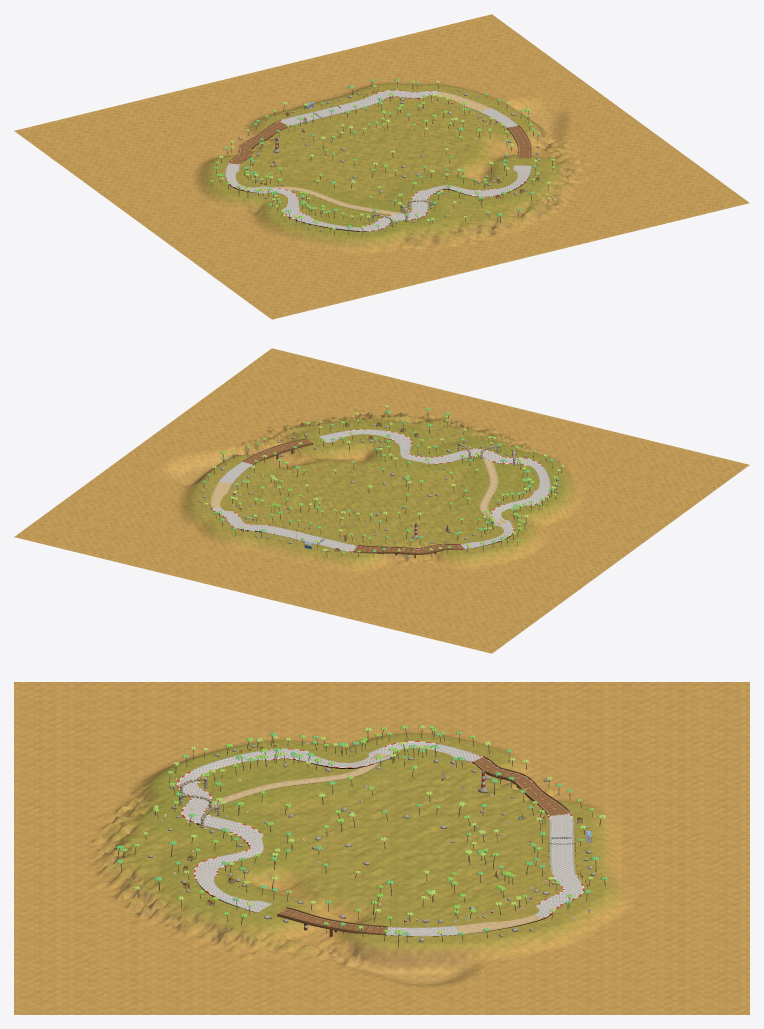
The model's file is recife-coral.glb.
3 views of the same model, one above another, from view 1: azimuth 30°, elevation 25°; view 2: azimuth 150°, elevation 25°; view 3: azimuth 270°, elevation 25° (orthographic). The views are drawn at different scales.
Parts seen in each view (by area): view 1: terrain25, terrain27, terrain26, terrain12, terrain28, terrain0, terrain18, terrain6, terrain24, terrain1, terrain4, terrain2 (+30 smaller); view 2: terrain3, terrain7, terrain12, terrain2, terrain4, terrain0, terrain24, terrain6, terrain18, terrain1, terrain15, terrain14 (+34 smaller); view 3: terrain28, terrain16, terrain10, terrain22, terrain27, terrain4, terrain3, terrain24, terrain0, terrain1, terrain6, terrain2 (+49 smaller).
Part boxes in pixels (<box>): terrain25: <box>289,223,419,286</box>; terrain27: <box>455,183,585,245</box>; terrain26: <box>373,204,502,265</box>; terrain12: <box>110,181,240,236</box>; terrain28: <box>539,170,669,225</box>; terrain0: <box>14,110,144,165</box>; terrain18: <box>158,216,288,271</box>; terrain6: <box>62,146,192,200</box>; terrain24: <box>206,251,336,306</box>; terrain1: <box>97,90,227,145</box>; terrain4: <box>347,29,477,83</box>; terrain2: <box>181,70,307,125</box>; terrain3: <box>160,536,290,592</box>; terrain7: <box>374,537,504,598</box>; terrain12: <box>505,528,635,583</box>; terrain2: <box>243,556,373,612</box>; terrain4: <box>77,517,206,572</box>; terrain0: <box>409,598,539,653</box>; terrain24: <box>601,458,731,512</box>; terrain6: <box>457,563,587,618</box>; terrain18: <box>553,493,683,548</box>; terrain1: <box>326,578,456,633</box>; terrain15: <box>256,463,385,516</box>; terrain14: <box>339,482,469,535</box>; terrain28: <box>65,903,202,971</box>; terrain16: <box>339,903,475,979</box>; terrain10: <box>476,904,612,972</box>; terrain22: <box>202,903,339,971</box>; terrain27: <box>65,846,202,913</box>; terrain4: <box>613,911,749,971</box>; terrain3: <box>613,853,749,913</box>; terrain24: <box>65,682,202,739</box>; terrain0: <box>613,682,749,739</box>; terrain1: <box>613,740,749,797</box>; terrain6: <box>476,682,612,739</box>; terrain2: <box>613,798,749,855</box>.
Size of what is drawn, in the model's own units: 690 by 57.36 by 645.
Materials: 31 (16 with a texture image).
